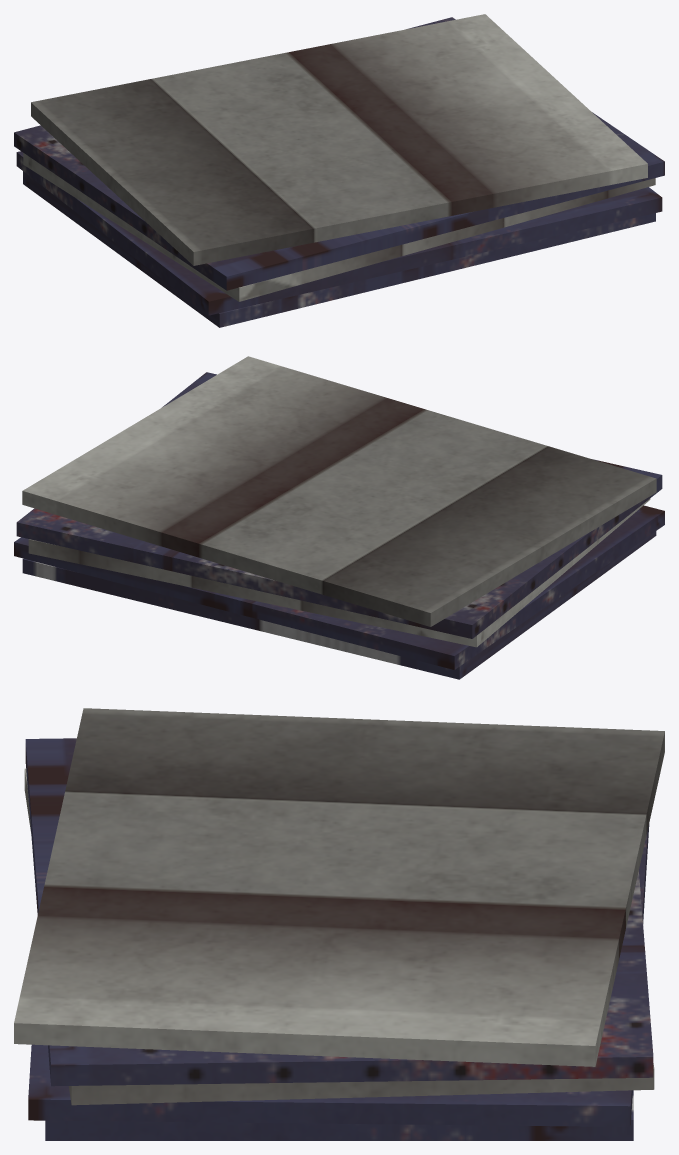
Rendered from Papers.fbx.
The picture shows the model from 3 angles, top to bottom: view 1: azimuth 30°, elevation 25°; view 2: azimuth 150°, elevation 25°; view 3: azimuth 270°, elevation 25°; orthographic projection. The views are drawn at different scales.
Parts seen in each view (by area): view 1: Papers; view 2: Papers; view 3: Papers.
Part boxes in pixels (x1,y1,x2,y2): Papers: [14, 14, 664, 327]; Papers: [14, 356, 664, 679]; Papers: [14, 708, 664, 1140].
Bounding box in the file's own units: 54.95 × 7.91 × 44.74.
